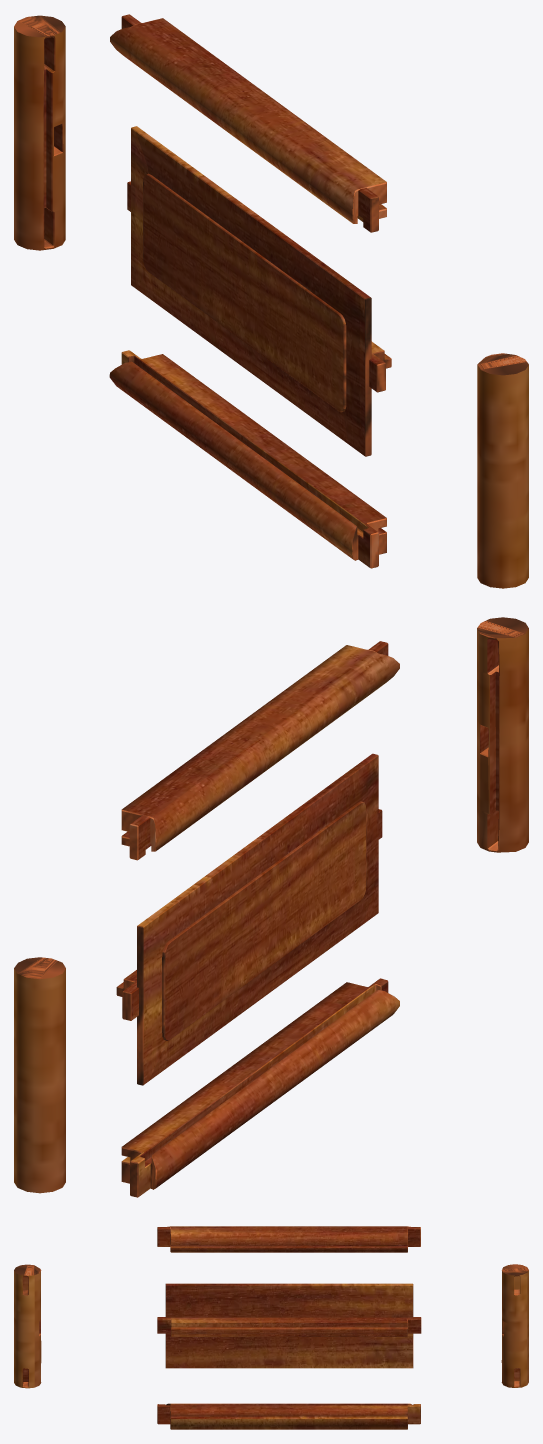
Rendered from SJ_J_ceban_02.FBX.
The picture shows the model from 3 angles, top to bottom: view 1: azimuth 30°, elevation 25°; view 2: azimuth 150°, elevation 25°; view 3: azimuth 270°, elevation 25°; orthographic projection. The views are drawn at different scales.
Parts seen in each view (by area): view 1: SJ_J_ceban_02, SJ_J_motou_2_01, SJ_J_motou_2_03, SJ_J_tui_04, SJ_J_tui_03, SJ_J_zhongchougui_01; view 2: SJ_J_ceban_02, SJ_J_motou_2_01, SJ_J_motou_2_03, SJ_J_tui_04, SJ_J_tui_03, SJ_J_zhongchougui_01; view 3: SJ_J_ceban_02, SJ_J_motou_2_03, SJ_J_motou_2_01, SJ_J_zhongchougui_01, SJ_J_tui_03, SJ_J_tui_04.
Part boxes in pixels (x1,y1,x2,y2): SJ_J_ceban_02: (131, 126, 371, 456); SJ_J_motou_2_01: (110, 14, 386, 232); SJ_J_motou_2_03: (109, 350, 386, 568); SJ_J_tui_04: (14, 15, 65, 250); SJ_J_tui_03: (477, 353, 528, 588); SJ_J_zhongchougui_01: (127, 181, 391, 392); SJ_J_ceban_02: (137, 753, 378, 1085); SJ_J_motou_2_01: (121, 641, 399, 860); SJ_J_motou_2_03: (121, 978, 399, 1197); SJ_J_tui_04: (14, 957, 65, 1193); SJ_J_tui_03: (477, 617, 528, 852); SJ_J_zhongchougui_01: (116, 809, 382, 1020); SJ_J_ceban_02: (165, 1283, 413, 1368); SJ_J_motou_2_03: (157, 1403, 420, 1429); SJ_J_motou_2_01: (157, 1226, 420, 1252); SJ_J_zhongchougui_01: (157, 1317, 421, 1336); SJ_J_tui_03: (14, 1264, 41, 1388); SJ_J_tui_04: (501, 1264, 528, 1387).
Bounding box in the file's own units: 4.39 × 31.88 × 76.08.
